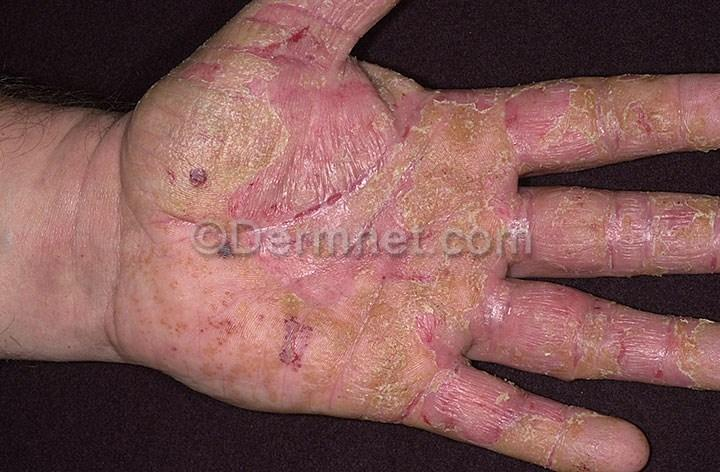Eczema: (364, 98, 720, 147), (293, 149, 507, 221), (231, 268, 344, 388), (161, 92, 282, 192), (547, 201, 718, 259), (355, 262, 496, 322), (362, 325, 448, 418), (253, 2, 345, 86), (511, 410, 614, 466), (561, 313, 645, 375), (653, 319, 720, 388)
